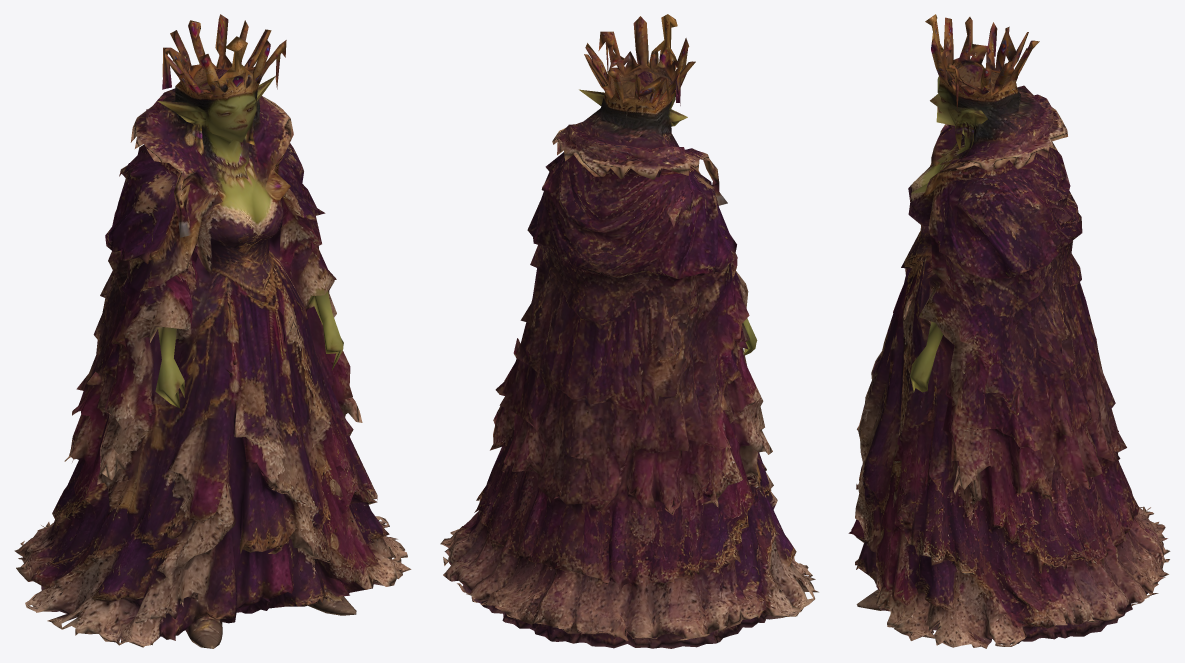
File: witch-queen.glb
3 renders of one model, left to right at view 1: azimuth 30°, elevation 25°; view 2: azimuth 150°, elevation 25°; view 3: azimuth 270°, elevation 25°, orthographic. The views are drawn at different scales.
Visible parts, largest first — view 1: tripo_node_c62c866e-4894-40c6-bd79-636ccc86b51f; view 2: tripo_node_c62c866e-4894-40c6-bd79-636ccc86b51f; view 3: tripo_node_c62c866e-4894-40c6-bd79-636ccc86b51f.
Boxes of the visible parts, <box> form: tripo_node_c62c866e-4894-40c6-bd79-636ccc86b51f: <box>14,14,411,648</box>; tripo_node_c62c866e-4894-40c6-bd79-636ccc86b51f: <box>440,14,818,648</box>; tripo_node_c62c866e-4894-40c6-bd79-636ccc86b51f: <box>848,14,1170,648</box>.
Bounding box in the file's own units: 0.654 × 0.9933 × 0.5201.
1 material, 1 textured.
